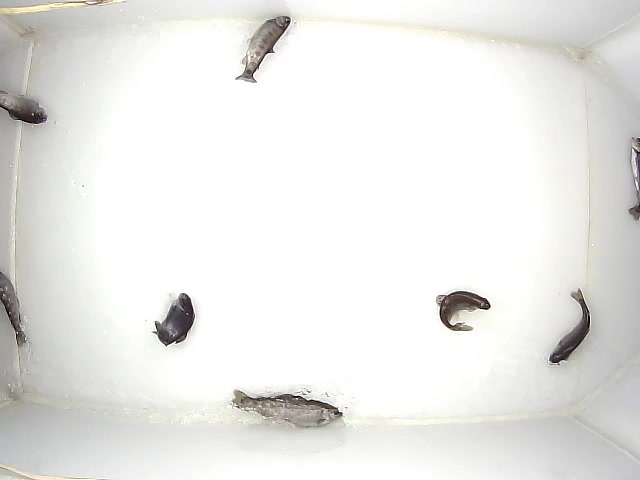fish: (231, 389, 343, 428), (235, 16, 291, 83), (549, 288, 590, 365), (151, 293, 195, 348), (436, 291, 491, 331), (1, 270, 27, 348), (1, 90, 48, 125), (628, 136, 640, 221)
